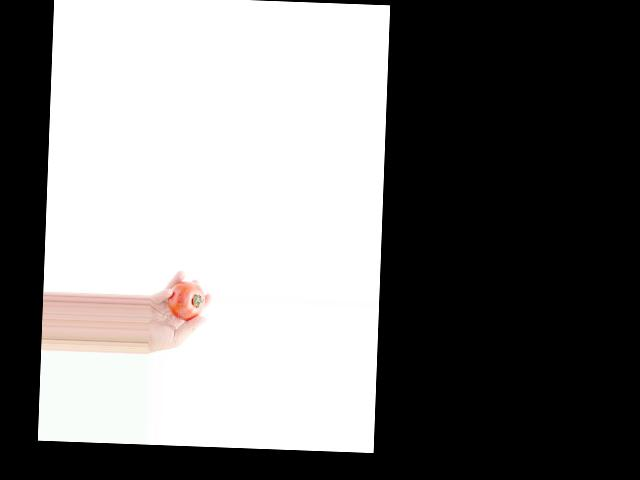tomato: (167, 280, 205, 320)
